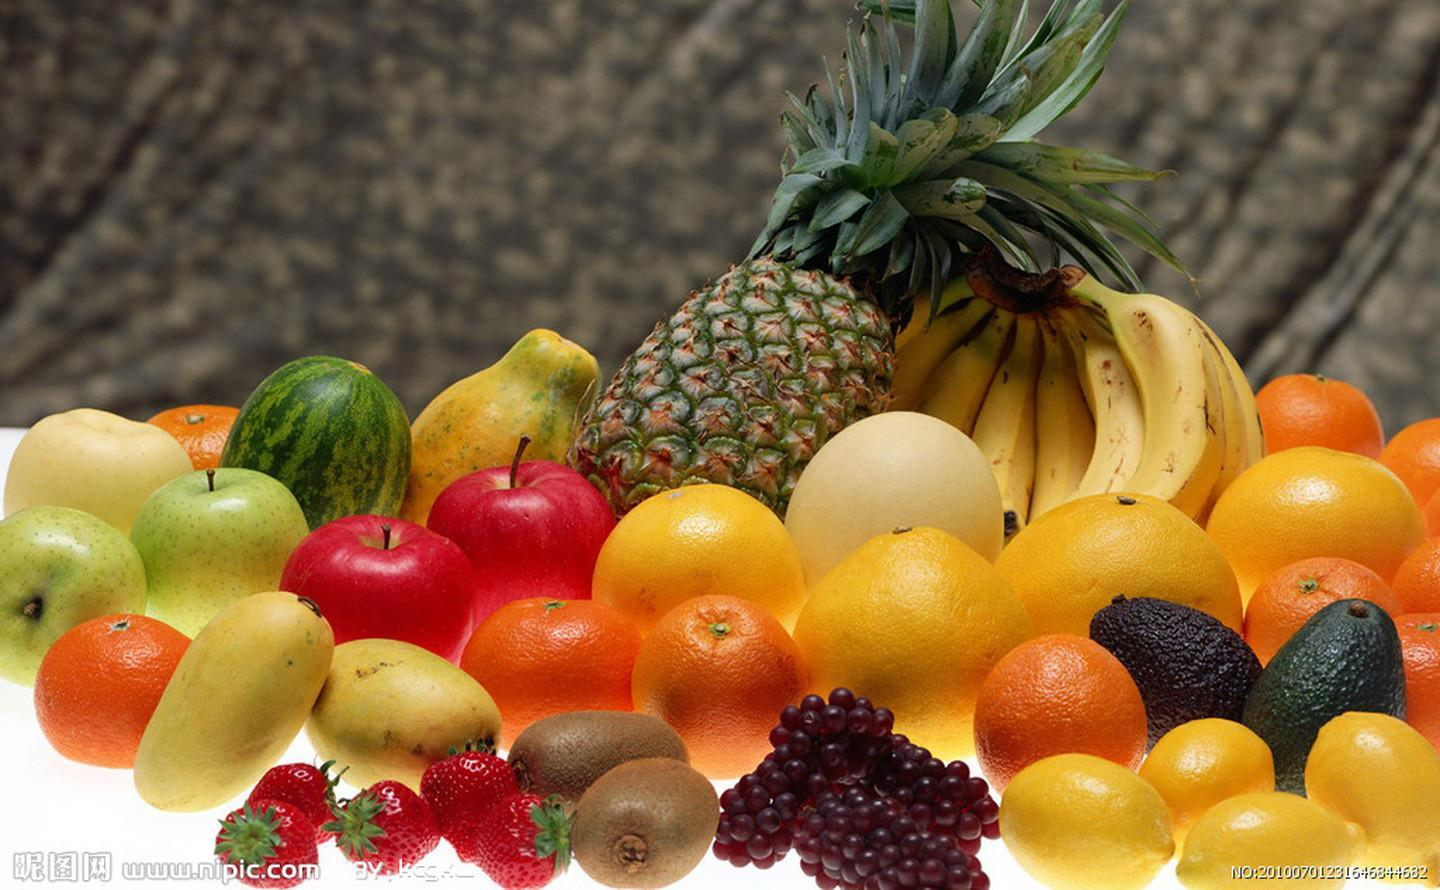apple: (279, 511, 478, 663), (427, 461, 611, 601)
